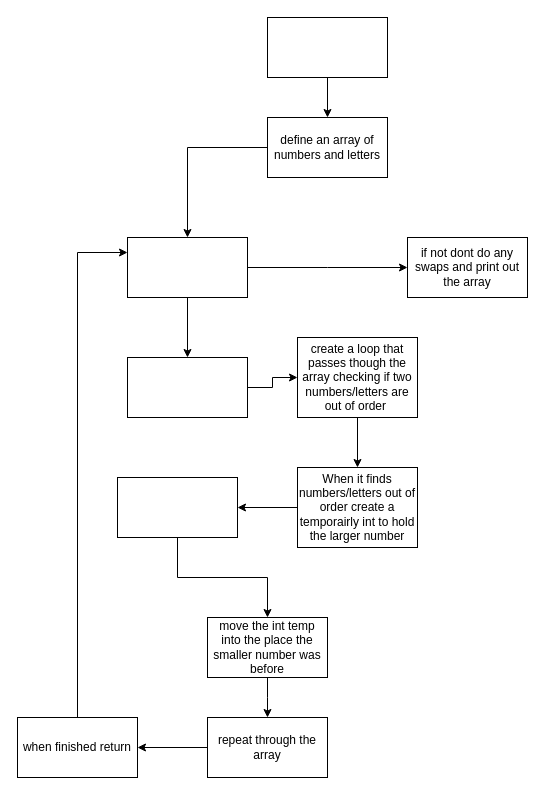
The diagram is 545 pixels wide and 795 high, and some of its shapes have lost their labels. Here are the shapes that lost their labels. From the top down, the box of each, then its label:
(266, 16, 388, 78): bobbel sort - swapping a higher value and a lower value
(126, 236, 248, 298): are the number/letters out of order?
(126, 356, 248, 418): if they are run function to swap
(116, 476, 238, 538): move the smaller number into the position where the larger number was
